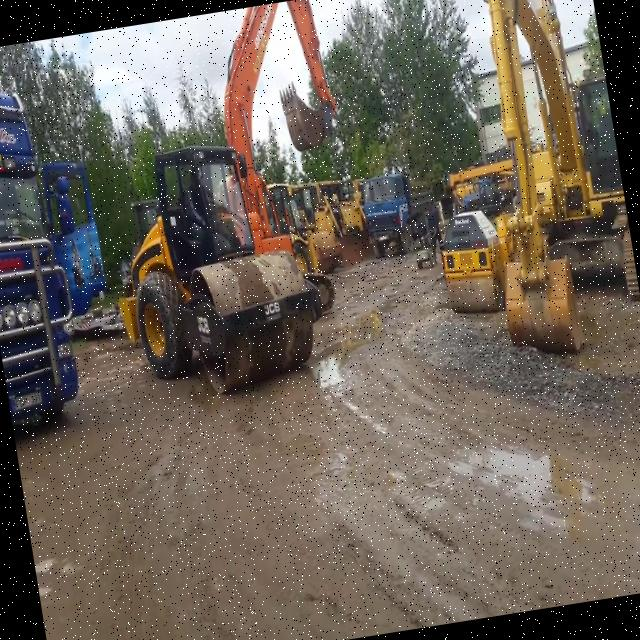Excavator: (452, 0, 640, 359)
Roller: (98, 130, 322, 408)
